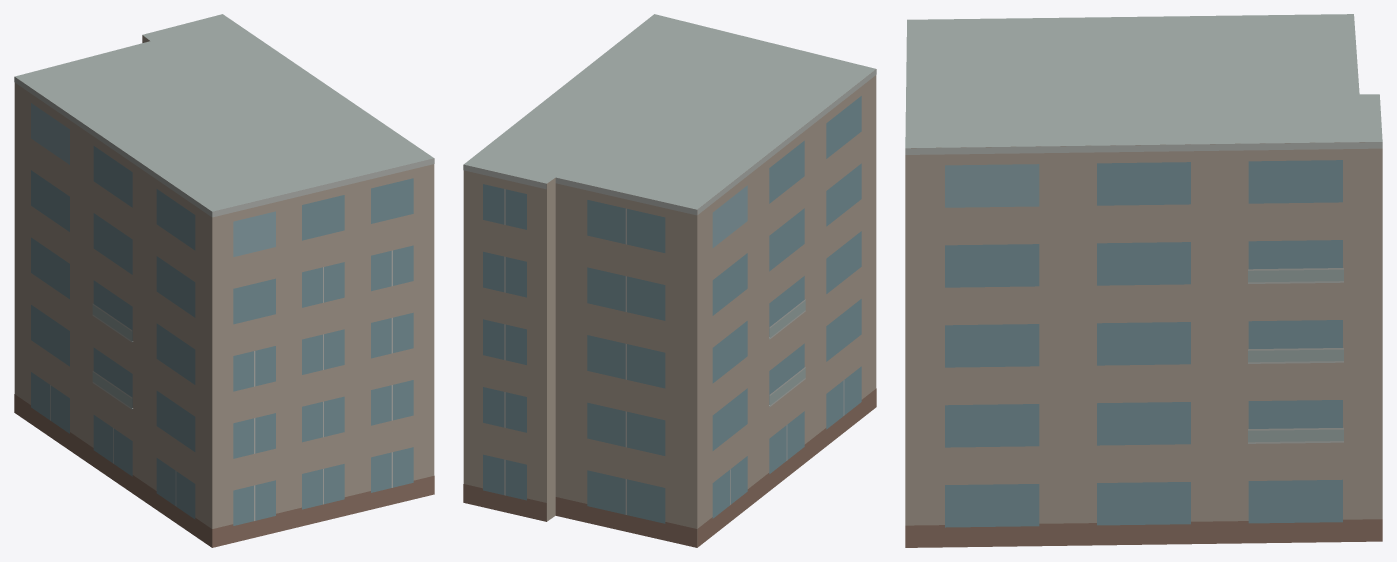
Rendered from survey-upis-32737786.glb.
3 renders of one model, left to right at view 1: azimuth 30°, elevation 25°; view 2: azimuth 150°, elevation 25°; view 3: azimuth 270°, elevation 25°, orthographic. The views are drawn at different scales.
Parts seen in each view (by area): view 1: survey-upis-32737786.tmp; view 2: survey-upis-32737786.tmp; view 3: survey-upis-32737786.tmp.
Boxes of the visible parts, x1=… form: survey-upis-32737786.tmp: x1=14, y1=14, x2=434, y2=547; survey-upis-32737786.tmp: x1=463, y1=14, x2=876, y2=547; survey-upis-32737786.tmp: x1=905, y1=14, x2=1382, y2=547.
Bounding box in the file's own units: 10.31 × 14.3 × 15.49.
